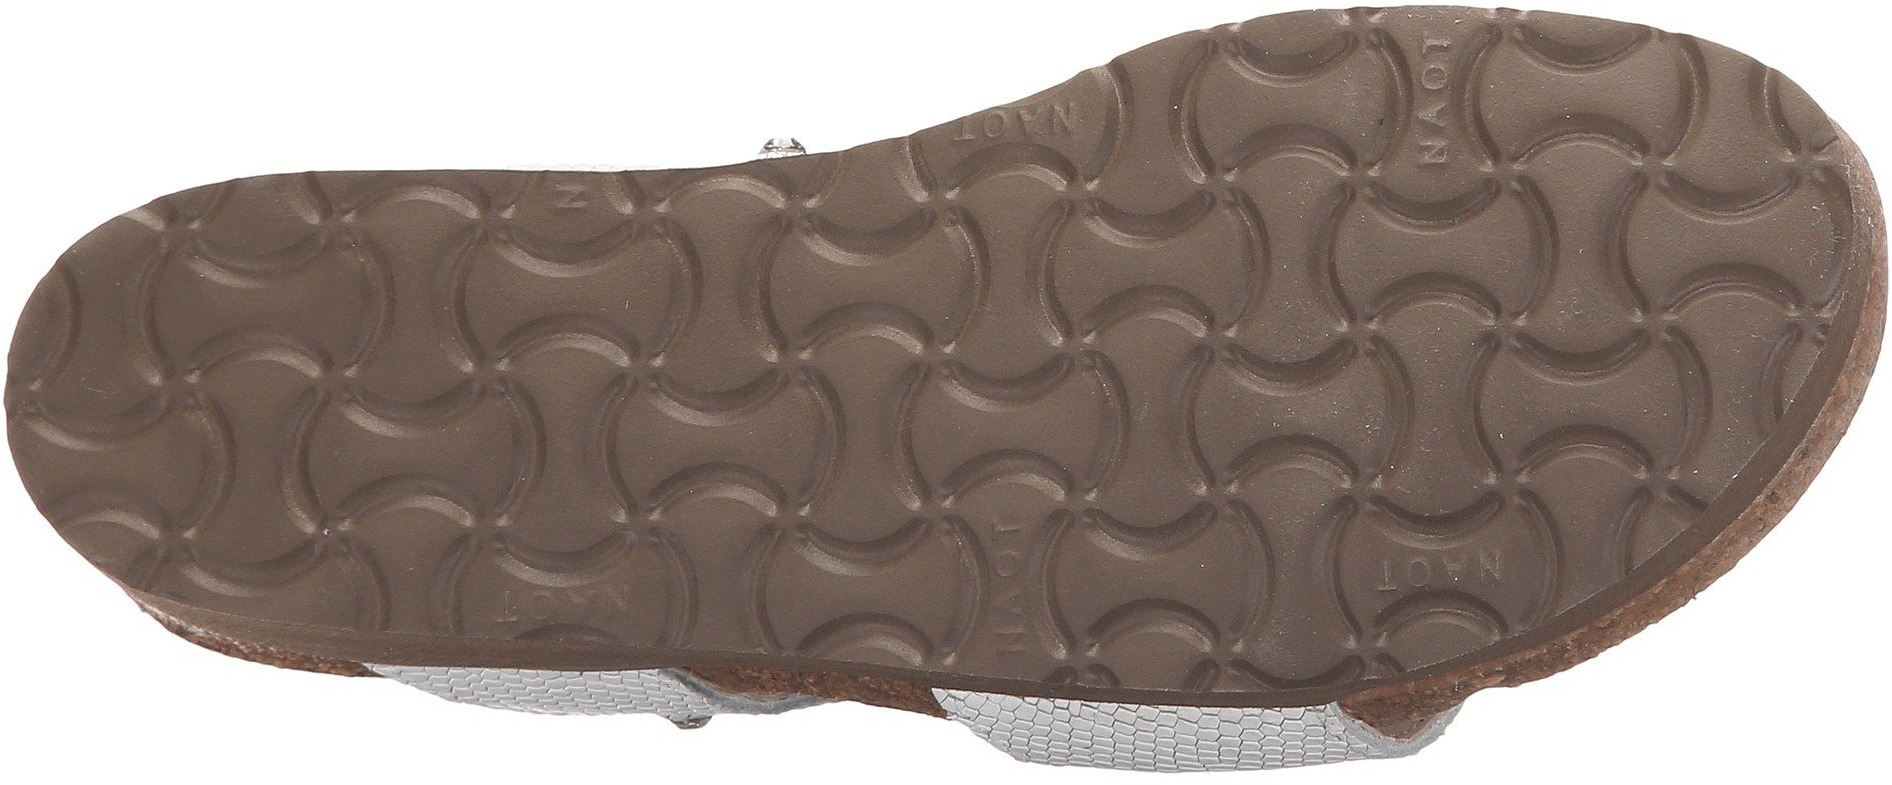bowtie: (794, 207, 1190, 594), (1232, 54, 1627, 429), (162, 242, 479, 587), (462, 444, 687, 648), (1261, 446, 1477, 654), (501, 176, 701, 370), (588, 370, 788, 543), (1637, 134, 1836, 306), (1636, 318, 1786, 459), (1481, 462, 1628, 580)
circle: (794, 207, 1190, 594), (1232, 54, 1627, 429), (462, 444, 687, 648), (1261, 446, 1477, 654)
text: (794, 207, 1190, 594), (1232, 54, 1627, 429), (462, 444, 687, 648), (1261, 446, 1477, 654)
